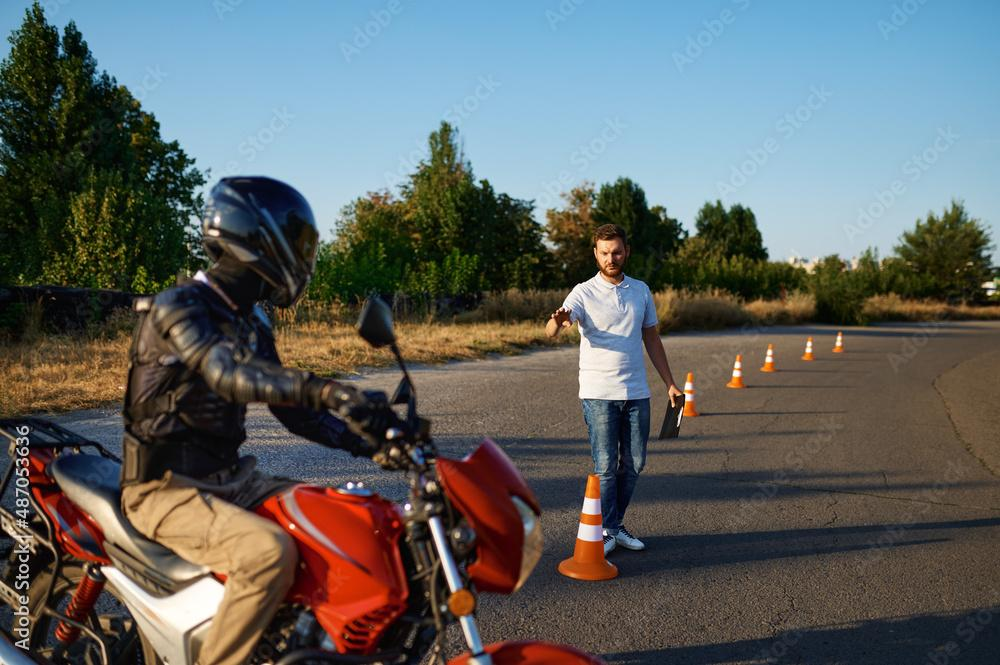helmet: (200, 174, 320, 309)
nohelmet: (592, 223, 631, 279)
